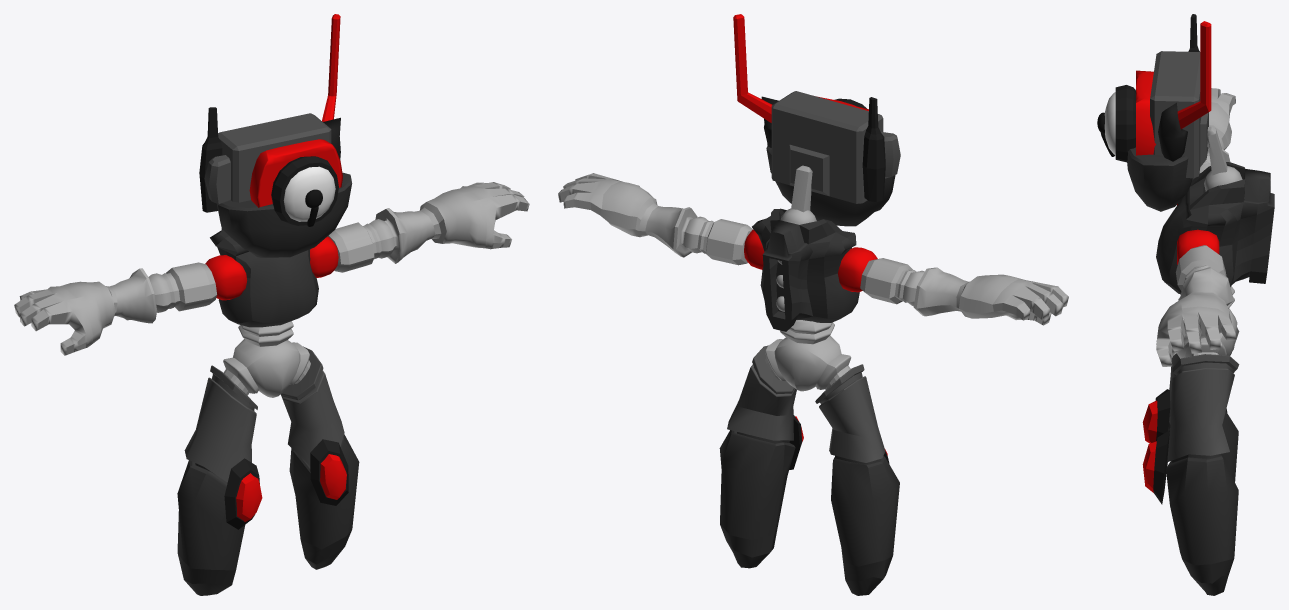
The model's file is JumpInitial.fbx.
The picture shows the model from 3 angles, left to right: view 1: azimuth 30°, elevation 25°; view 2: azimuth 150°, elevation 25°; view 3: azimuth 270°, elevation 25°; orthographic projection. The views are drawn at different scales.
Parts seen in each view (by area): view 1: polySurface87, polySurface88, Torso, pCube16, pCube21, Pelvis, pCube4, KneeSocket_geo, Shoulders, KneeJewel_geo, pCube9, EyeSocket (+3 smaller); view 2: polySurface87, polySurface88, Torso, pCube21, Pelvis, pCube16, pCube40, Shoulders, pCube6, Neck; view 3: polySurface87, Torso, polySurface88, pCube21, pCube16, pCube6, EyeSocket, KneeSocket_geo, pCube4, pCube8, Neck, KneeJewel_geo (+4 smaller).
Part boxes in pixels (bbox=[...]): polySurface87: bbox=[177, 346, 359, 595]; polySurface88: bbox=[14, 182, 529, 355]; Torso: bbox=[210, 228, 318, 327]; pCube16: bbox=[217, 172, 352, 257]; pCube21: bbox=[218, 113, 331, 202]; Pelvis: bbox=[223, 339, 310, 397]; pCube4: bbox=[249, 139, 342, 207]; KneeSocket_geo: bbox=[224, 439, 348, 529]; Shoulders: bbox=[205, 236, 338, 300]; KneeJewel_geo: bbox=[236, 454, 346, 521]; pCube9: bbox=[283, 166, 335, 221]; EyeSocket: bbox=[271, 156, 338, 225]; polySurface87: bbox=[719, 345, 899, 595]; polySurface88: bbox=[558, 173, 1068, 325]; Torso: bbox=[752, 208, 859, 331]; pCube21: bbox=[771, 91, 883, 203]; Pelvis: bbox=[765, 335, 851, 391]; pCube16: bbox=[766, 146, 895, 226]; pCube40: bbox=[862, 97, 885, 201]; Shoulders: bbox=[744, 229, 877, 292]; pCube6: bbox=[733, 14, 772, 122]; Neck: bbox=[781, 165, 816, 224]; polySurface87: bbox=[1166, 327, 1239, 595]; Torso: bbox=[1156, 162, 1274, 294]; polySurface88: bbox=[1156, 88, 1235, 366]; pCube21: bbox=[1150, 51, 1208, 178]; pCube16: bbox=[1127, 147, 1192, 211]; pCube6: bbox=[1177, 21, 1211, 129]; EyeSocket: bbox=[1115, 85, 1135, 162]; KneeSocket_geo: bbox=[1153, 389, 1170, 504]; pCube4: bbox=[1136, 70, 1155, 155]; pCube8: bbox=[1158, 102, 1187, 161]; Neck: bbox=[1204, 126, 1242, 191]; KneeJewel_geo: bbox=[1142, 400, 1157, 492].
Bounding box in the file's own units: 272 × 285 × 79.63.
